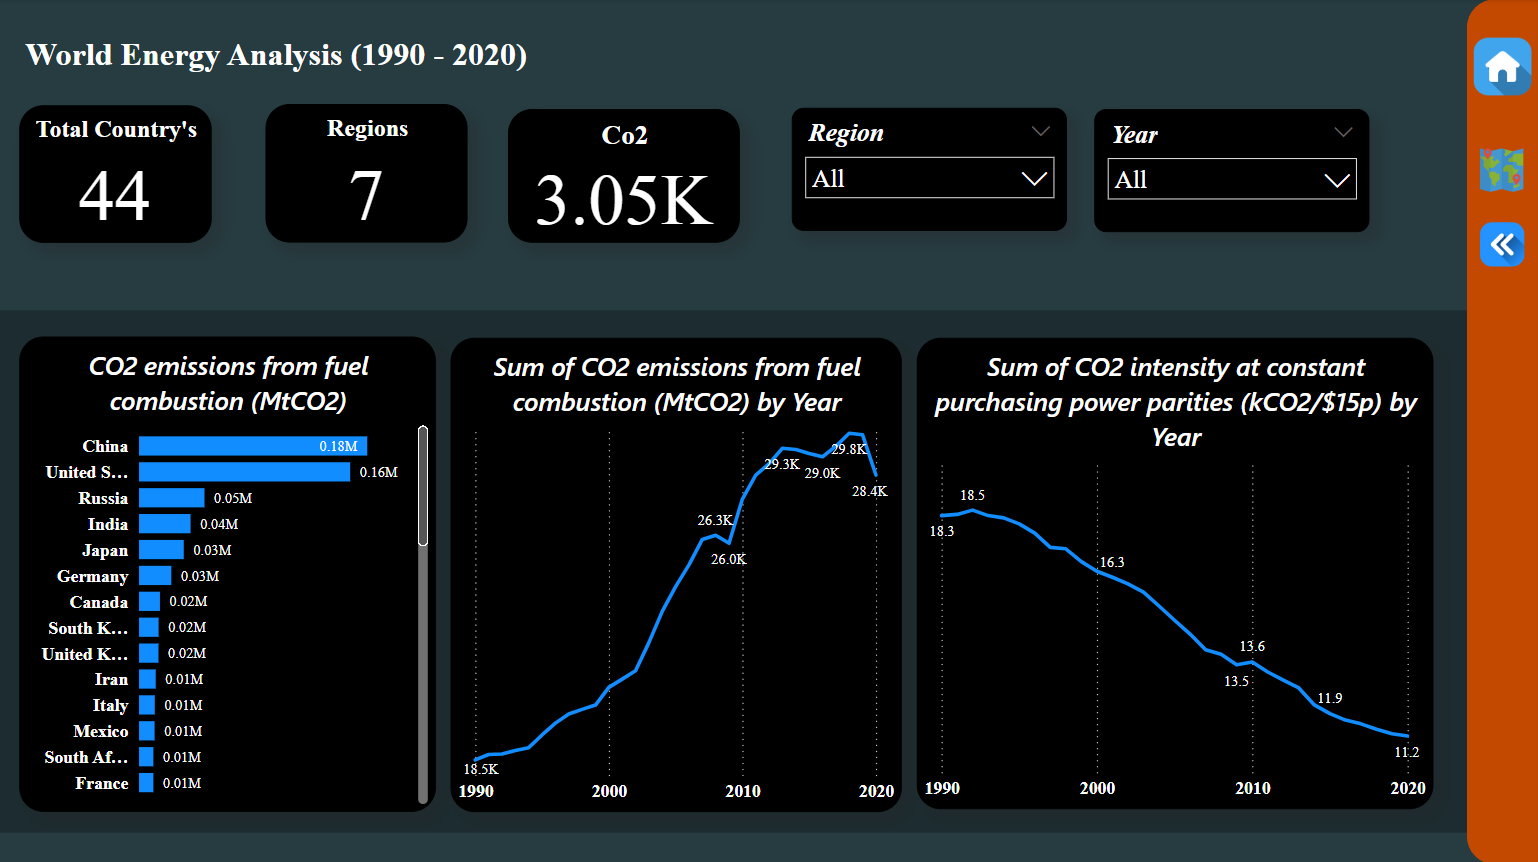

The dashboard page shown, as its layout file describes it:
{"tool":"powerbi","page":{"name":"Co2","canvas":[1280,720],"ordinal":0},"visuals":[{"type":"shape","box":[0,258.5,1235,434.3],"z":0},{"type":"card","title":"Total Country''s ","fields":{"Values":["Measure.Total_contry"]},"box":[17.3,87.9,159.9,114.6],"z":1000},{"type":"card","title":"Regions","fields":{"Values":["Measure.Total_Region"]},"box":[222.6,87.7,168.3,115.5],"z":2000},{"type":"shape","box":[1220.9,0,59.3,719.8],"z":3000},{"type":"textbox","title":"World Energy Analysis (1990 - 2020) ","box":[17.8,31.2,429.7,37.2],"z":4000},{"type":"barChart","title":"CO2 emissions from fuel combustion (MtCO2) ","fields":{"Category":["Energy data 1990-2020.country"],"Y":["Sum(Energy data 1990-2020.CO2 emissions from fuel combustion (MtCO2))"]},"box":[17.7,280.6,346.1,394.9],"z":5000},{"type":"slicer","fields":{"Values":["Energy data 1990-2020.Region"]},"box":[659.7,90.9,229,102.6],"z":6000},{"type":"lineChart","fields":{"Category":["Energy data 1990-2020.Year"],"Y":["Sum(Energy data 1990-2020.CO2 emissions from fuel combustion (MtCO2))"]},"box":[376.5,281.3,375.1,394.1],"z":7000},{"type":"slicer","fields":{"Values":["Energy data 1990-2020.Year"]},"box":[911.2,91.4,229.1,102.3],"z":8000},{"type":"card","title":"Co2","fields":{"Values":["Sum(Energy data 1990-2020.Average CO2 emission factor (tCO2/toe))"]},"box":[424,91.1,193,111.4],"z":9000},{"type":"lineChart","fields":{"Category":["Energy data 1990-2020.Year"],"Y":["Sum(Energy data 1990-2020.CO2 intensity at constant purchasing power parities (kCO2/$15p))"]},"box":[763.5,282,429.5,391.9],"z":10000},{"type":"image","title":"home icon","box":[1222.2,25,57.6,63.1],"z":11000},{"type":"image","title":"co2map","box":[1227.6,119.6,45.7,45.7],"z":13000},{"type":"image","title":"co2back","box":[1227.7,180.8,46.3,46.3],"z":15000}]}

Visuals, with their boxes in screenshot pixels (x1, y1, x2, y2), scaled from the page's 1280x720 canvas onto the 1538x862 screenshot:
shape: crop(0, 309, 1484, 829)
"Total Country''s " card: crop(21, 105, 213, 242)
"Regions" card: crop(267, 105, 470, 243)
shape: crop(1467, 0, 1537, 861)
"World Energy Analysis (1990 - 2020) " textbox: crop(21, 37, 538, 82)
"CO2 emissions from fuel combustion (MtCO2) " barChart: crop(21, 336, 437, 809)
slicer - Energy data 1990-2020.Region: crop(793, 109, 1068, 232)
lineChart - Energy data 1990-2020.Year x Sum(Energy data 1990-2020.CO2 emissions from fuel combustion (MtCO2)): crop(452, 337, 903, 809)
slicer - Energy data 1990-2020.Year: crop(1095, 109, 1370, 232)
"Co2" card: crop(509, 109, 741, 242)
lineChart - Energy data 1990-2020.Year x Sum(Energy data 1990-2020.CO2 intensity at constant purchasing power parities (kCO2/$15p)): crop(917, 338, 1433, 807)
"home icon" image: crop(1469, 30, 1537, 105)
"co2map" image: crop(1475, 143, 1530, 198)
"co2back" image: crop(1475, 216, 1531, 272)
